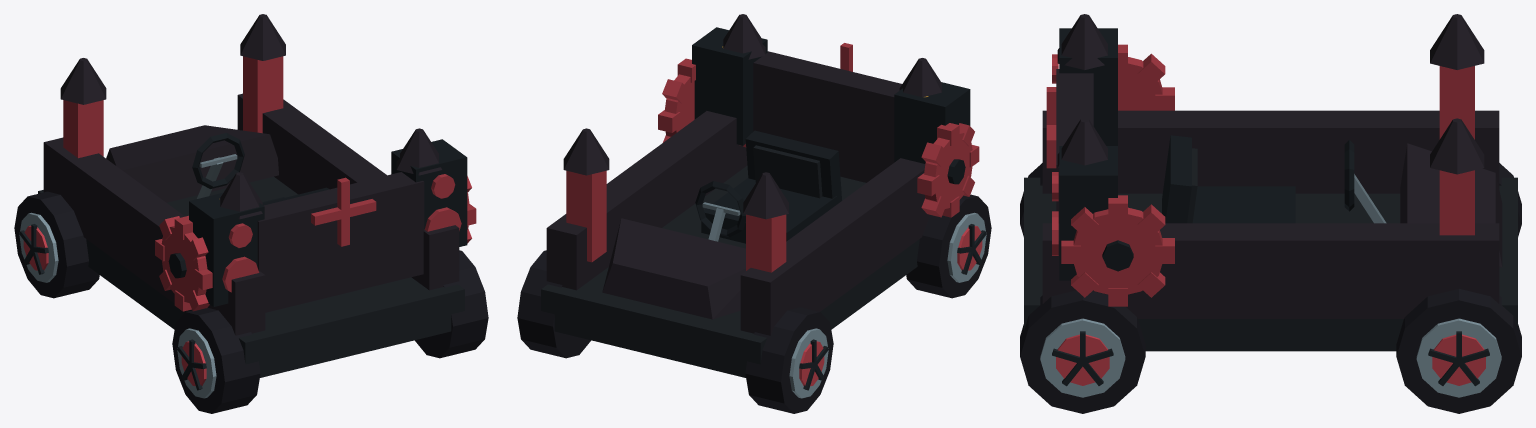
Rendered from kart.glb.
3 views of the same model, side by side, from view 1: azimuth 30°, elevation 25°; view 2: azimuth 150°, elevation 25°; view 3: azimuth 270°, elevation 25° (orthographic). The views are drawn at different scales.
Visible parts, largest first — view 1: identity-reliquary-reliquary-arched-stone-chest, identity-reliquary-motif-speakers, wheel-rear-left, wheel-front-left, identity-reliquary-motif-gears, wheel-rear-right, identity-reliquary-driver-cockpit; view 2: identity-reliquary-reliquary-arched-stone-chest, identity-reliquary-motif-speakers, identity-reliquary-driver-cockpit, wheel-front-left, identity-reliquary-motif-gears, wheel-rear-left, wheel-front-right; view 3: identity-reliquary-reliquary-arched-stone-chest, wheel-front-right, wheel-rear-right, identity-reliquary-motif-gears, identity-reliquary-driver-cockpit, identity-reliquary-motif-speakers.
Part boxes in pixels (box(x1,y1,x2,y2)): identity-reliquary-reliquary-arched-stone-chest: box(38, 14, 464, 377); identity-reliquary-motif-speakers: box(189, 139, 467, 306); wheel-rear-left: box(172, 307, 260, 413); wheel-front-left: box(14, 191, 99, 298); identity-reliquary-motif-gears: box(155, 176, 476, 311); wheel-rear-right: box(415, 250, 488, 358); identity-reliquary-driver-cockpit: box(192, 132, 329, 205); identity-reliquary-reliquary-arched-stone-chest: box(541, 14, 941, 377); identity-reliquary-motif-speakers: box(692, 27, 970, 163); identity-reliquary-driver-cockpit: box(695, 130, 841, 243); wheel-front-left: box(745, 307, 833, 413); identity-reliquary-motif-gears: box(658, 58, 979, 217); wheel-rear-left: box(906, 194, 991, 298); wheel-front-right: box(517, 250, 590, 358); identity-reliquary-reliquary-arched-stone-chest: box(1024, 14, 1517, 351); wheel-front-right: box(1396, 288, 1521, 413); wheel-rear-right: box(1020, 290, 1145, 413); identity-reliquary-motif-gears: box(1061, 44, 1174, 306); identity-reliquary-driver-cockpit: box(1162, 135, 1386, 223); identity-reliquary-motif-speakers: box(1052, 28, 1117, 280).
Size of the model in its own units: 1.97 by 1.51 by 2.56.
